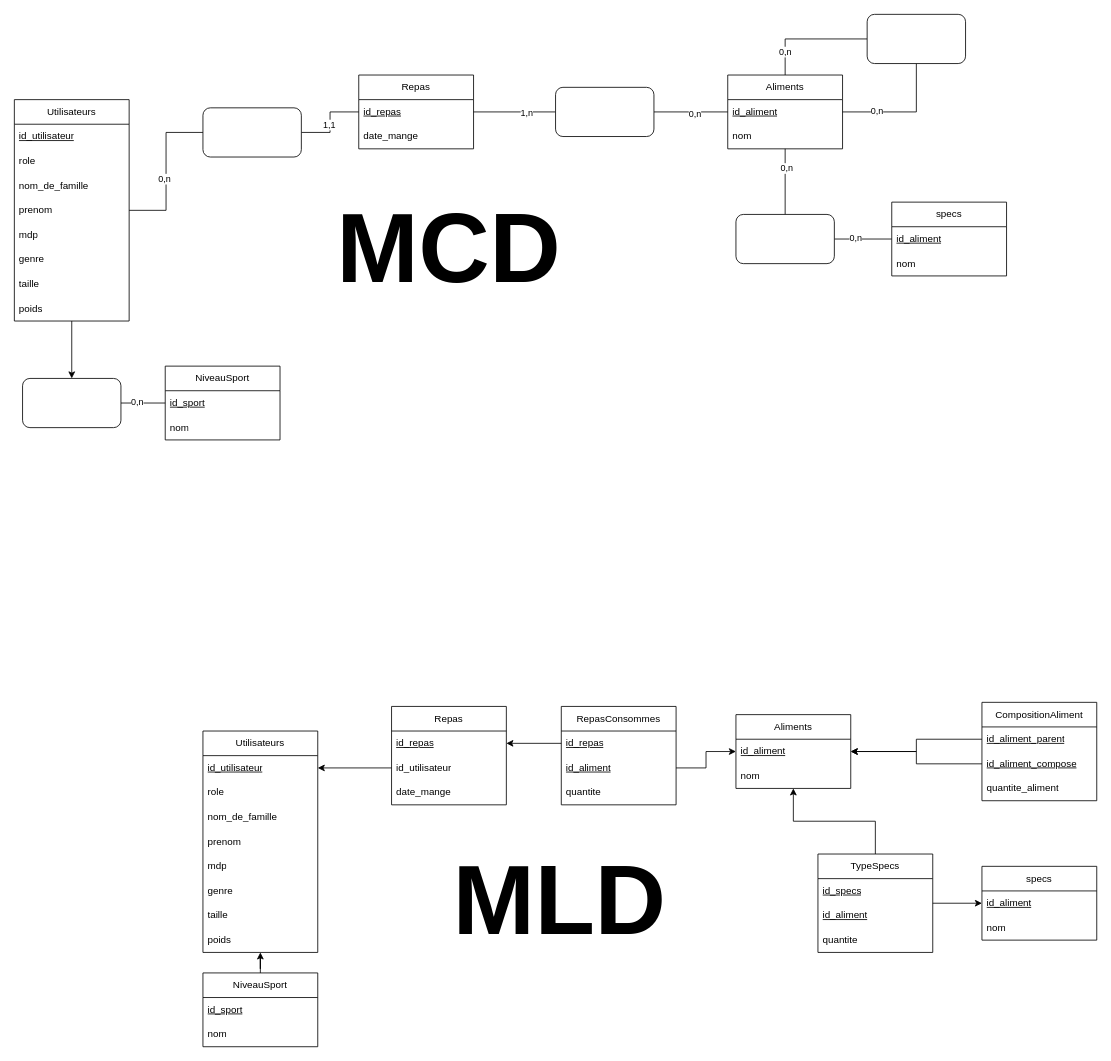
Some shapes in this 1111 by 1061 pixel diagram are drawn without their labels. Each missing label, with the centre of its shape:
alimentcontenir qtt: the point at 916,39
manger: the point at 251,132
repascontenir qtt: the point at 604,112
être: the point at 71,403
être qtt: the point at 784,239
